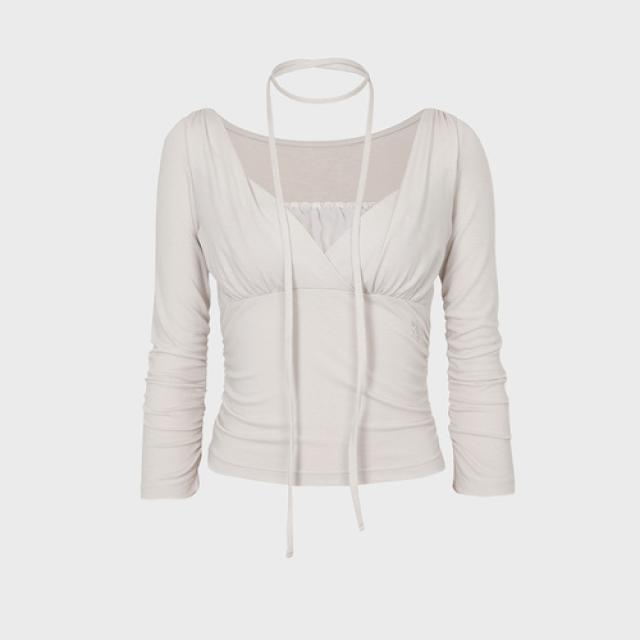Blouse_deep: (137, 84, 524, 522)
